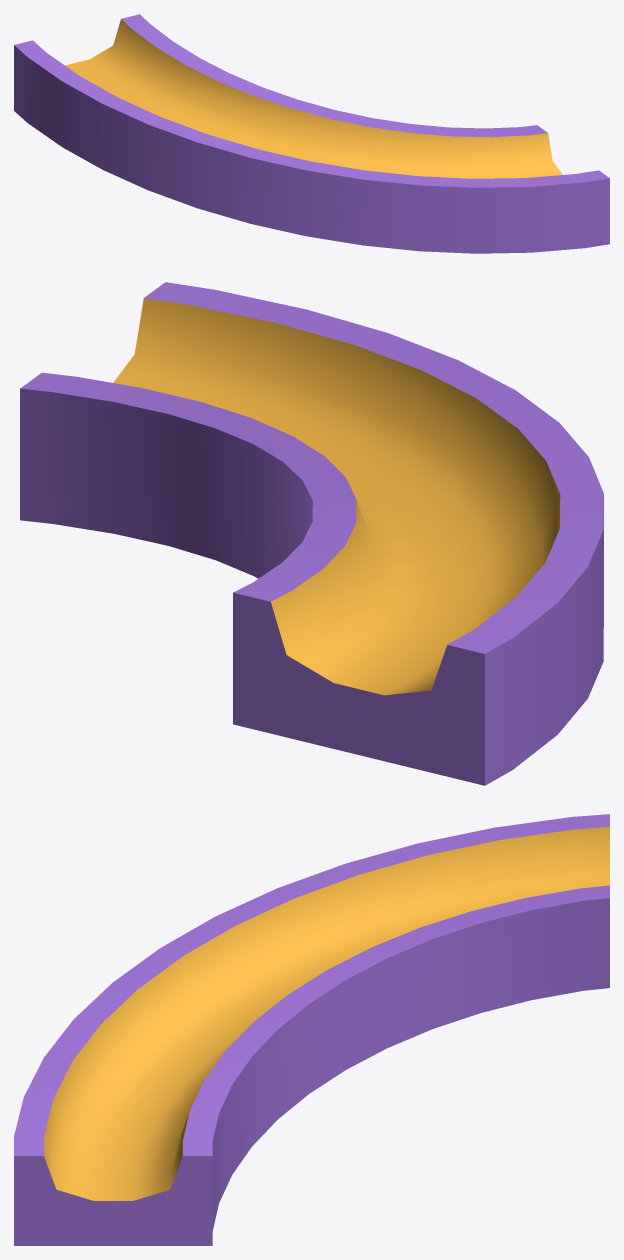
The model's file is helix-large-quarter-right.glb.
3 renders of one model, top to bottom at view 1: azimuth 30°, elevation 25°; view 2: azimuth 150°, elevation 25°; view 3: azimuth 270°, elevation 25°, orthographic. The views are drawn at different scales.
Visible parts, largest first — view 1: helix-large-quarter-right; view 2: helix-large-quarter-right; view 3: helix-large-quarter-right.
Part boxes in pixels (box(x1,y1,x2,y2)): helix-large-quarter-right: box(14, 14, 609, 253); helix-large-quarter-right: box(20, 282, 603, 785); helix-large-quarter-right: box(14, 814, 609, 1245).
Size of the model in its own units: 3 by 0.9999 by 3.
1 material, 1 textured.
